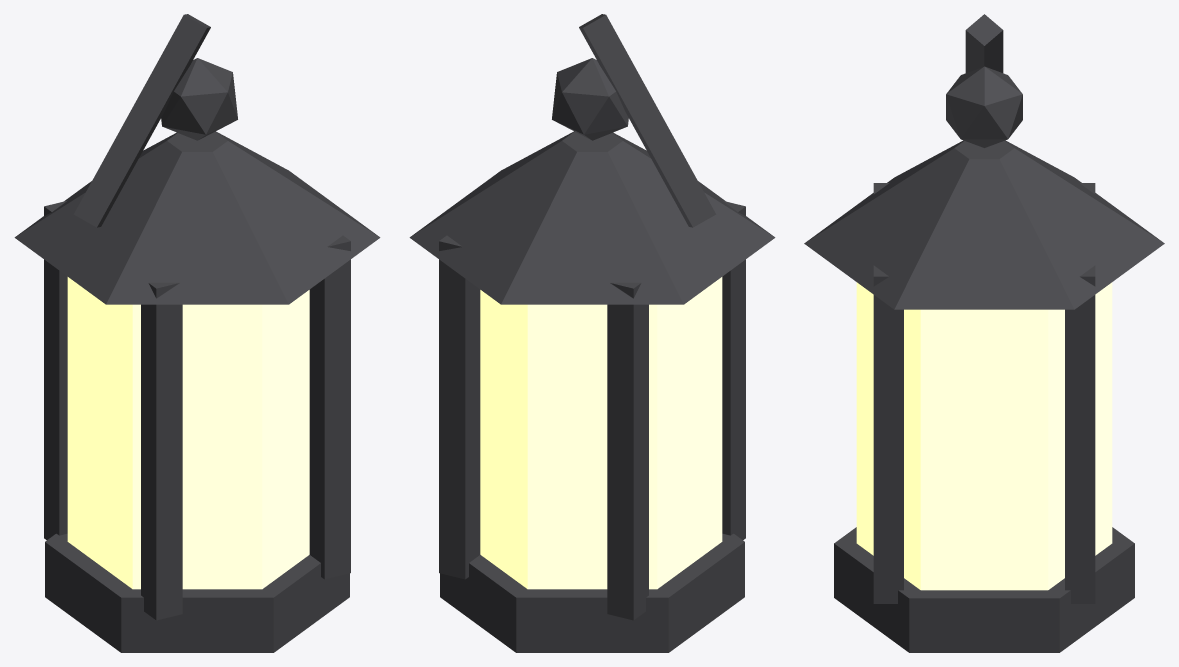
File: lantern_hand.glb
3 renders of one model, left to right at view 1: azimuth 30°, elevation 25°; view 2: azimuth 150°, elevation 25°; view 3: azimuth 270°, elevation 25°, orthographic.
Visible parts, largest first — view 1: lantern_hand; view 2: lantern_hand; view 3: lantern_hand.
Boxes of the visible parts, x1,y1,x2,y2 form: lantern_hand: (14, 14, 380, 652); lantern_hand: (409, 14, 775, 652); lantern_hand: (804, 14, 1164, 652).
Size of the model in its own units: 0.2494 by 0.5083 by 0.288.
